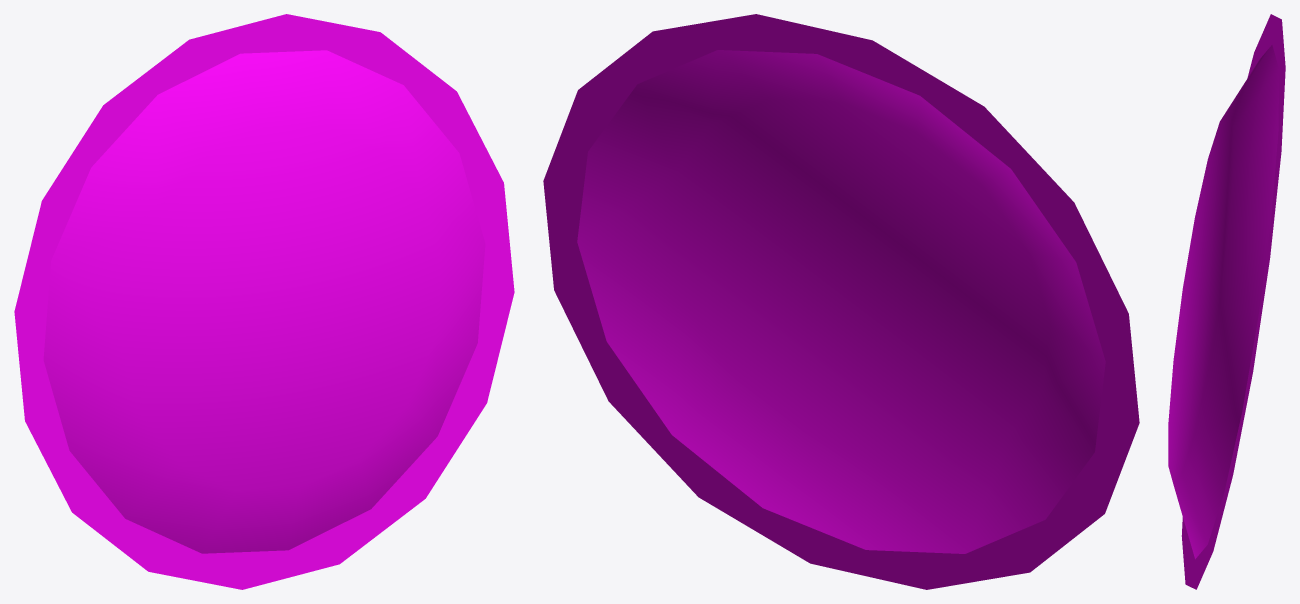
The model's file is aspis_01_back.glb.
3 renders of one model, left to right at view 1: azimuth 30°, elevation 25°; view 2: azimuth 150°, elevation 25°; view 3: azimuth 270°, elevation 25°, orthographic. The views are drawn at different scales.
Visible parts, largest first — view 1: Cubo_008-mesh; view 2: Cubo_008-mesh; view 3: Cubo_008-mesh.
Boxes of the visible parts, box(x1,y1,x2,y2) form: Cubo_008-mesh: box(14, 14, 514, 589); Cubo_008-mesh: box(543, 14, 1139, 589); Cubo_008-mesh: box(1168, 14, 1285, 589).
Bounding box in the file's own units: 2.02 × 1.98 × 0.4098.
